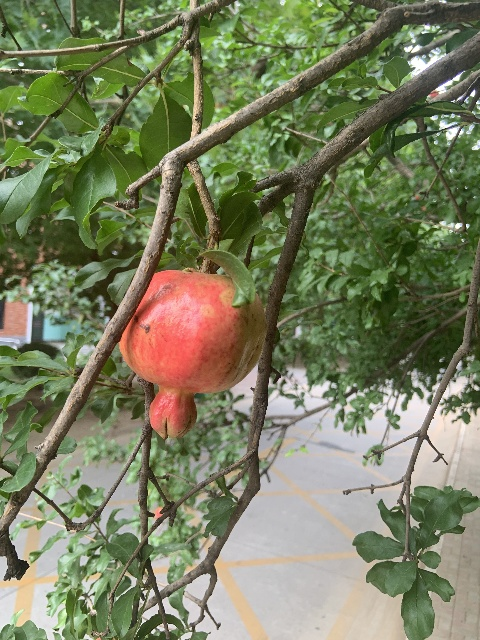ripe: (118, 269, 265, 438)
